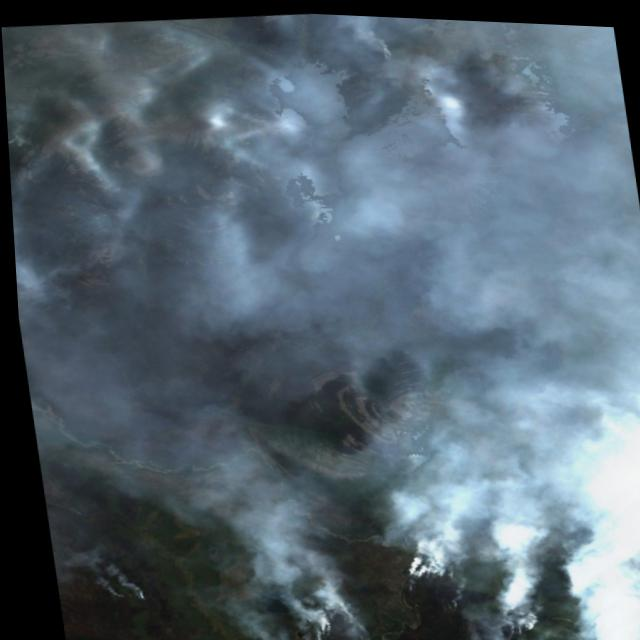fire: (269, 530, 539, 640), (359, 13, 460, 61)
